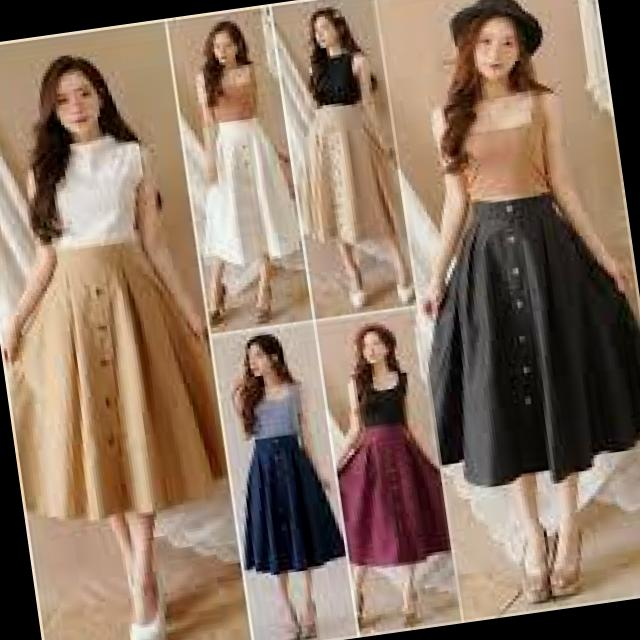skirt: (409, 190, 640, 496), (0, 234, 229, 538), (335, 424, 460, 585), (289, 104, 408, 264), (191, 113, 302, 275), (235, 434, 348, 588)
